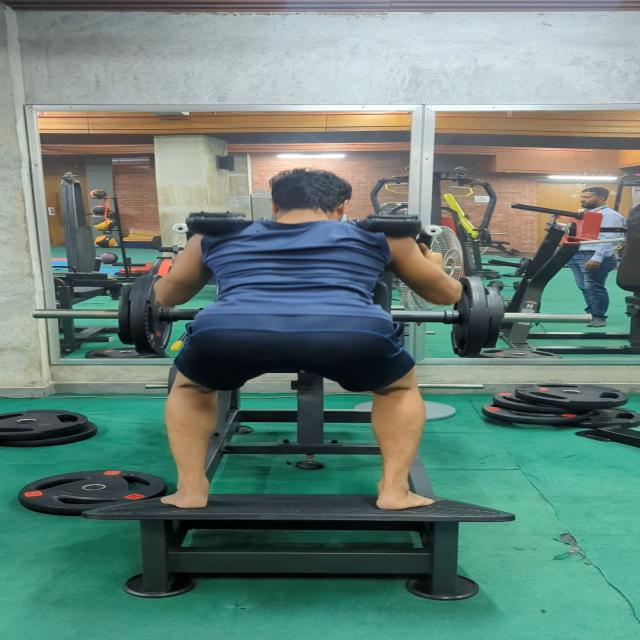Normal_SquatsWithBarbell: (154, 157, 456, 512)
